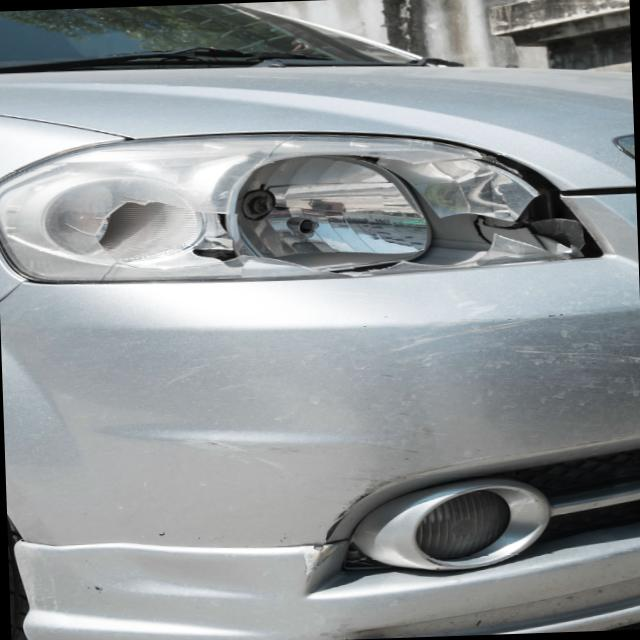Phare abime: (118, 136, 613, 280)
Rayure: (117, 417, 375, 463)
